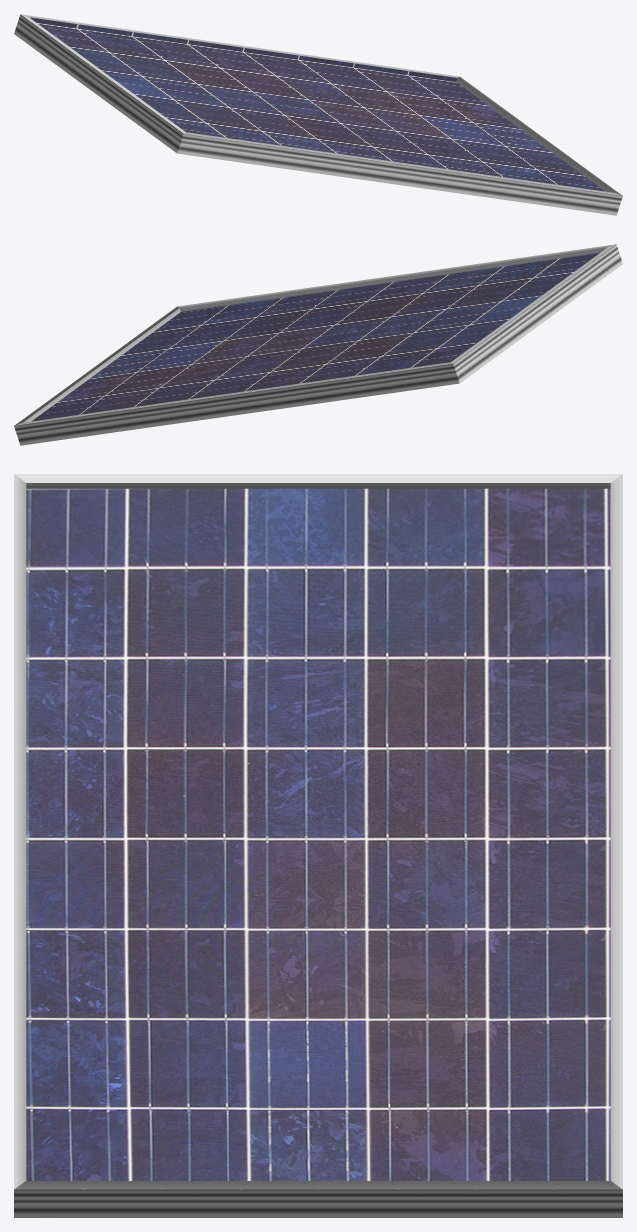
Rendered from solar_panel.fbx.
The picture shows the model from 3 angles, top to bottom: view 1: azimuth 30°, elevation 25°; view 2: azimuth 150°, elevation 25°; view 3: azimuth 270°, elevation 25°; orthographic projection. The views are drawn at different scales.
Parts seen in each view (by area): view 1: Panel_50; view 2: Panel_50; view 3: Panel_50.
Boxes of the visible parts, left/top/right/bottom form: Panel_50: left=14, top=14, right=622, bottom=215; Panel_50: left=14, top=244, right=622, bottom=445; Panel_50: left=14, top=474, right=622, bottom=1217.
Size of the model in its own units: 0.9448 by 0.38 by 0.5994.
Materials: 1 (1 with a texture image).
